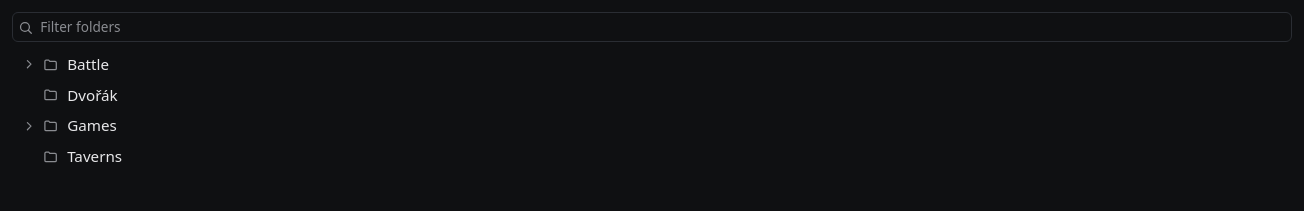
FolderTree › renders roots collapsed; clicking a row selects and expands it
The image size is (1304, 211).
Expected: the text "Sieges" is not shown
Click the text "Battle": [88, 64] box [67,54,109,74]
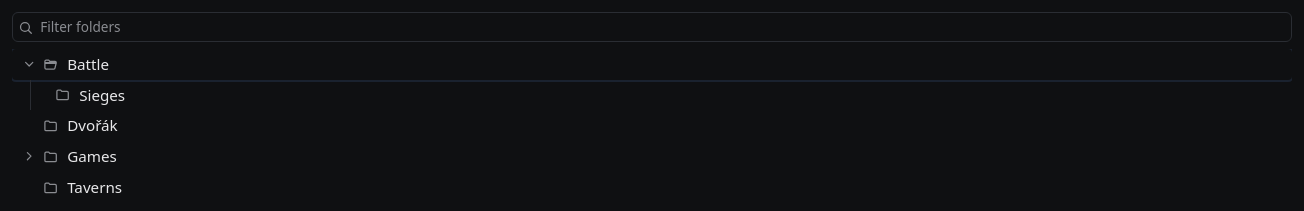
Now the text "Sieges" is shown, box [79,85,125,105]
